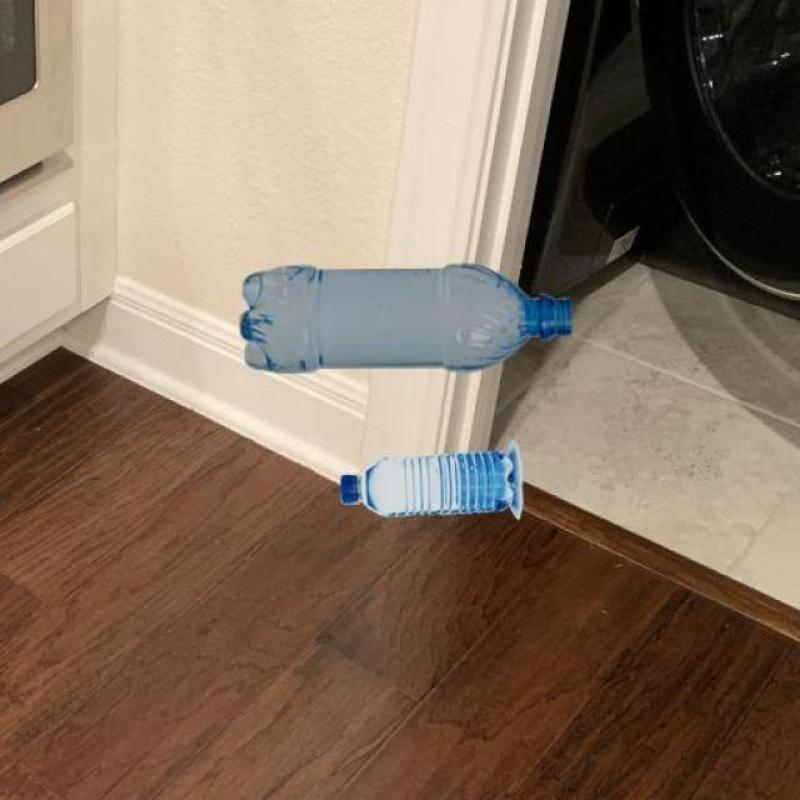botella: (238, 263, 574, 373), (338, 451, 514, 518)
